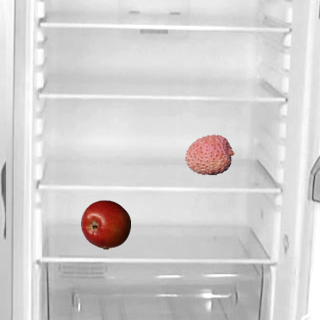Apple Braeburn: (80, 199, 130, 249)
Lychee: (184, 129, 234, 179)
